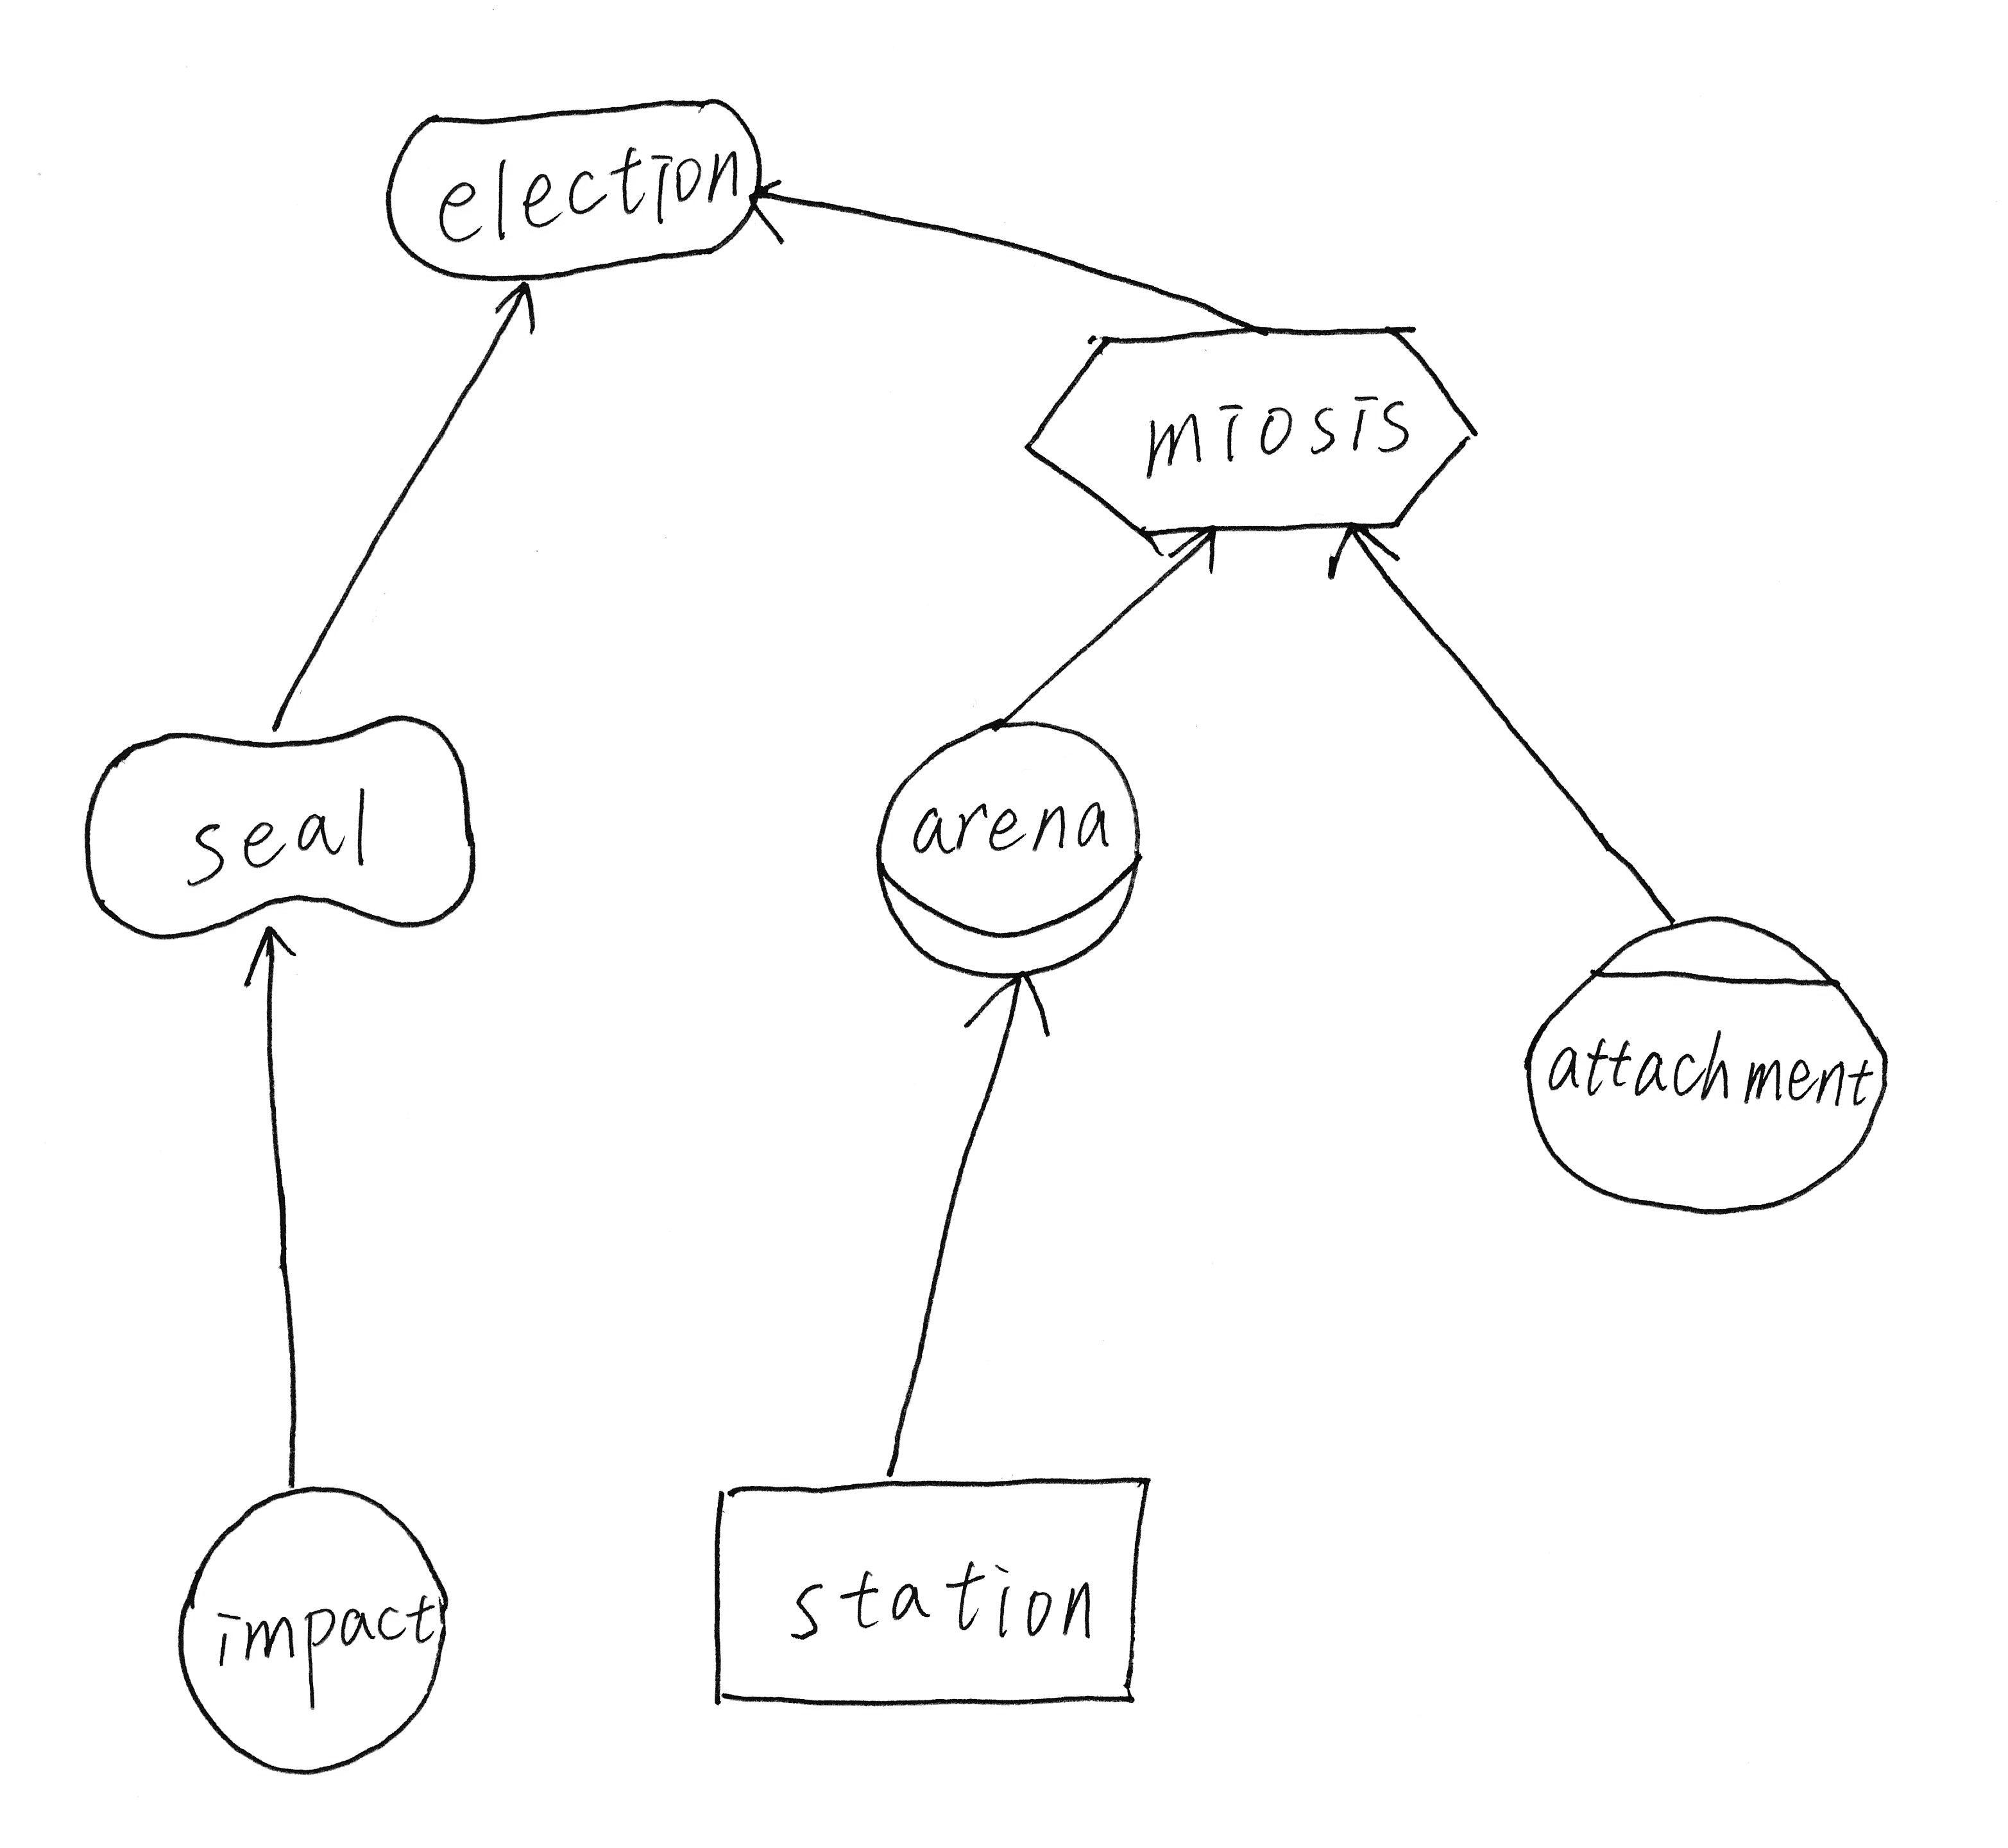actor: (150, 1465, 478, 1795)
agent: (1503, 889, 1917, 1244)
arrow: (1307, 502, 1427, 598), (946, 957, 1070, 1050), (731, 157, 808, 264), (220, 912, 311, 1001), (1158, 504, 1230, 593), (478, 259, 554, 339)
goal: (360, 84, 787, 296)
quality: (59, 691, 504, 961)
resource: (682, 1445, 1182, 1734)
role: (852, 702, 1172, 1004)
task: (1001, 296, 1504, 558)
